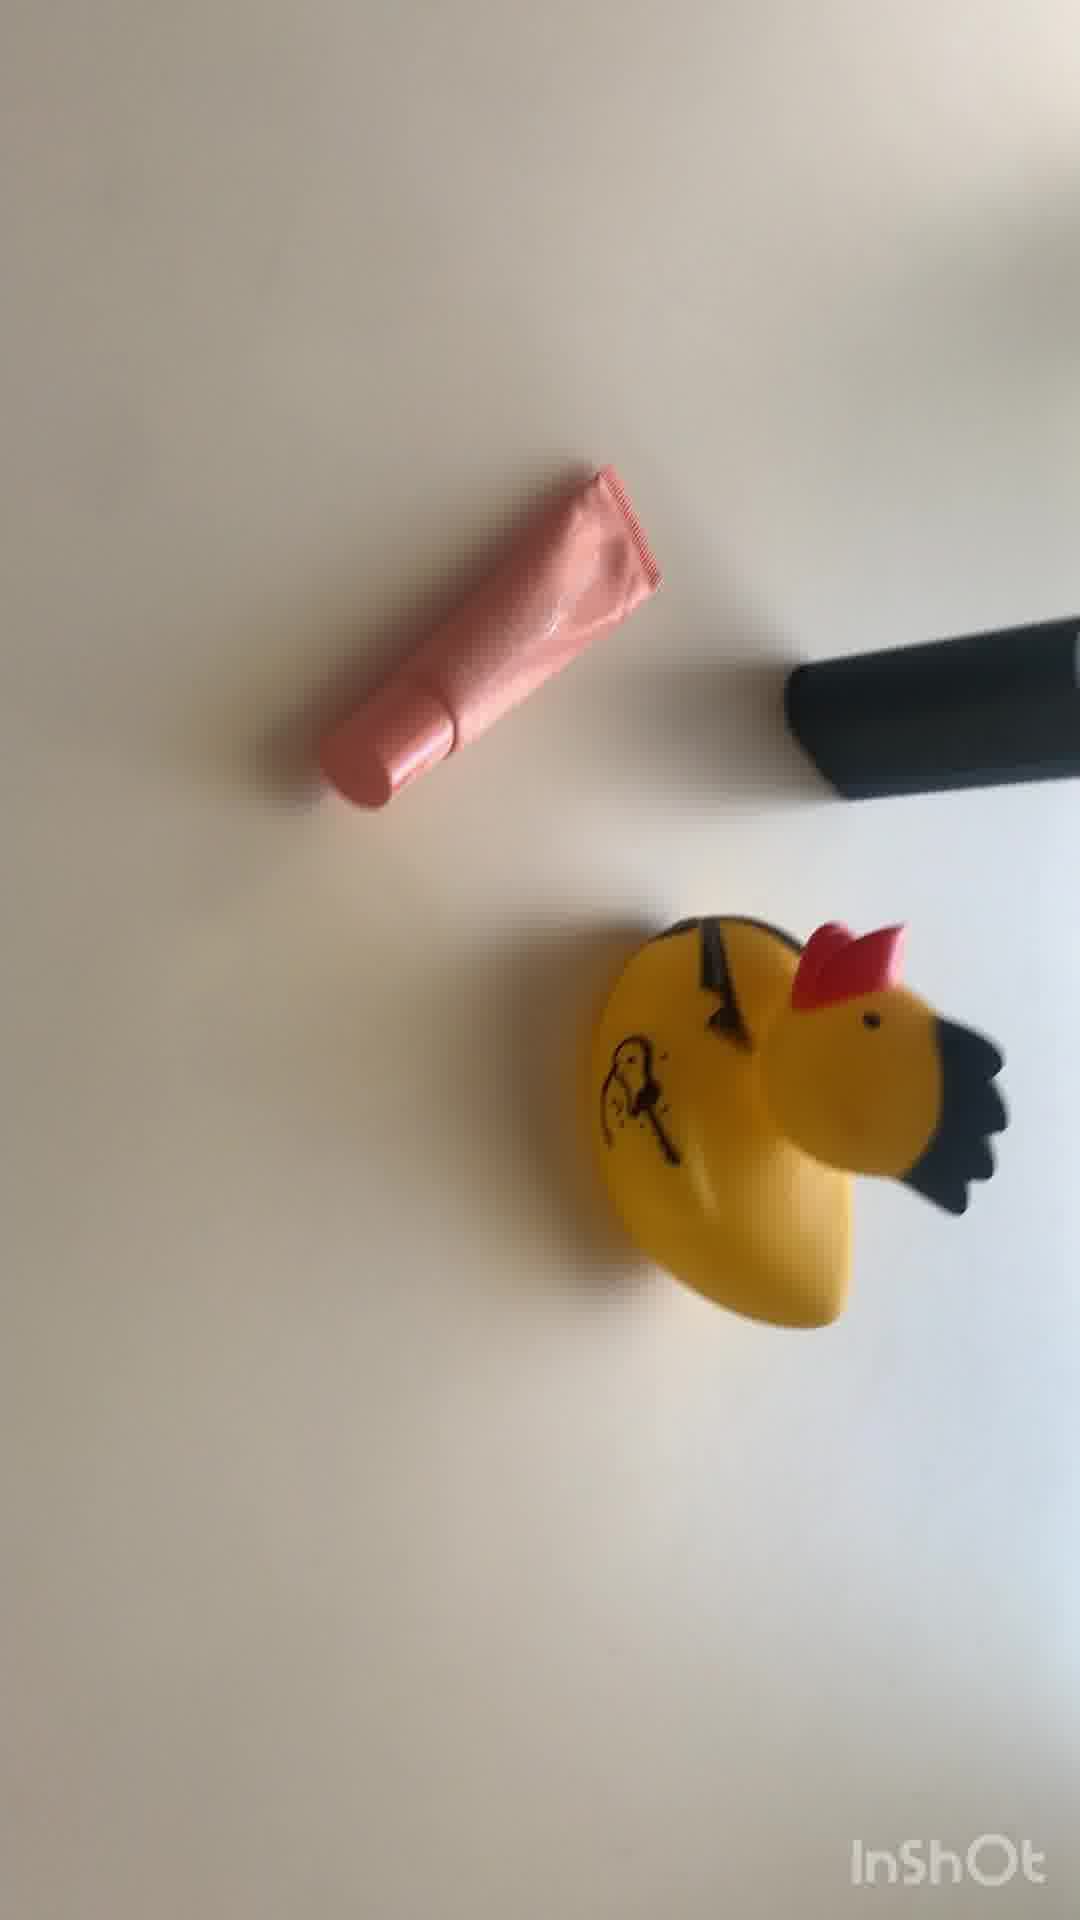duck: (589, 913, 1015, 1338)
glo: (787, 611, 1080, 800)
lip balm: (315, 464, 676, 803)
